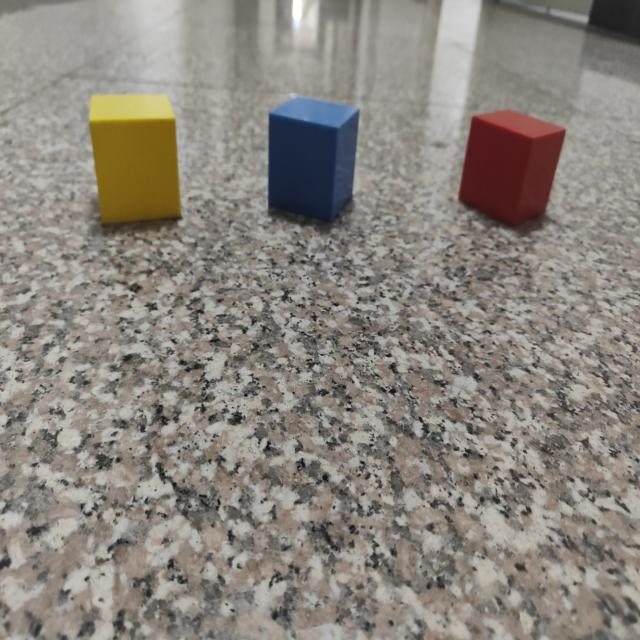blue: (267, 97, 361, 225)
red: (458, 111, 566, 228)
yellow: (88, 94, 183, 229)
